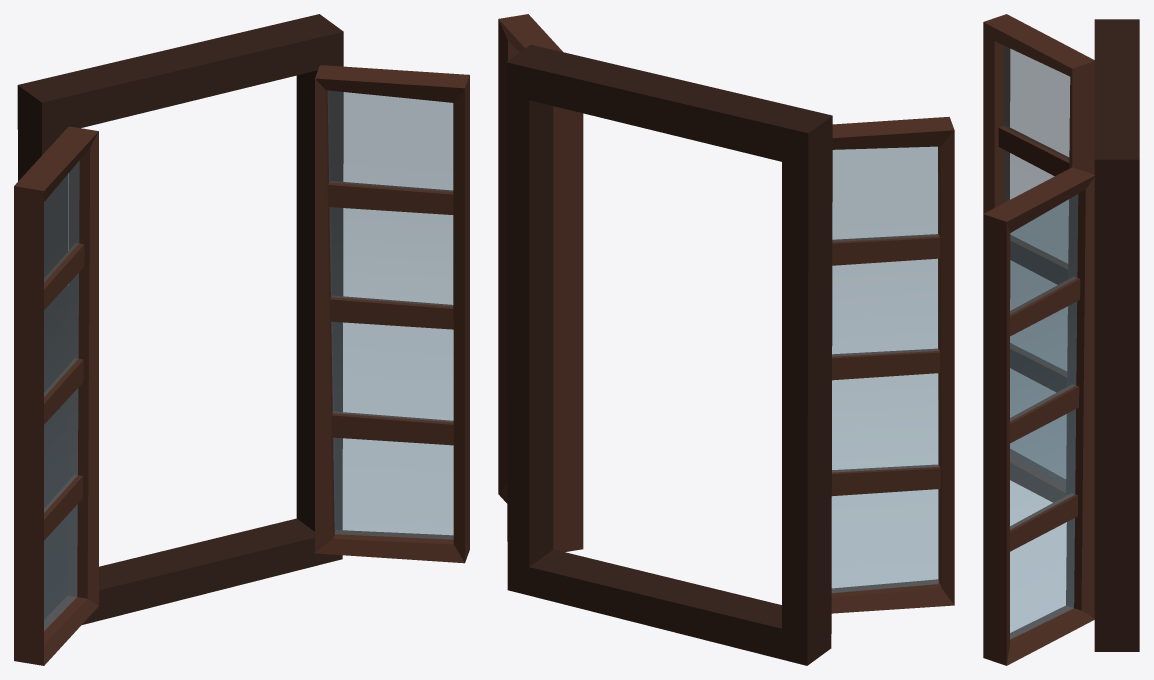
Rendered from Window 2x4 Open.glb.
The picture shows the model from 3 angles, left to right: view 1: azimuth 30°, elevation 25°; view 2: azimuth 150°, elevation 25°; view 3: azimuth 270°, elevation 25°; orthographic projection. The views are drawn at different scales.
Parts seen in each view (by area): view 1: Window 2x4 Open; view 2: Window 2x4 Open; view 3: Window 2x4 Open.
Part boxes in pixels (x1=…): Window 2x4 Open: x1=14, y1=14, x2=469, y2=665; Window 2x4 Open: x1=498, y1=14, x2=954, y2=665; Window 2x4 Open: x1=983, y1=14, x2=1139, y2=665.
Size of the model in its own units: 1.74 by 1.94 by 0.5538.
Materials: 2 (2 with a texture image).
